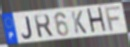6: (53, 11, 70, 37)
F: (104, 5, 121, 32)
H: (86, 7, 108, 36)
J: (21, 15, 34, 40)
K: (70, 10, 88, 35)
R: (32, 14, 55, 40)
